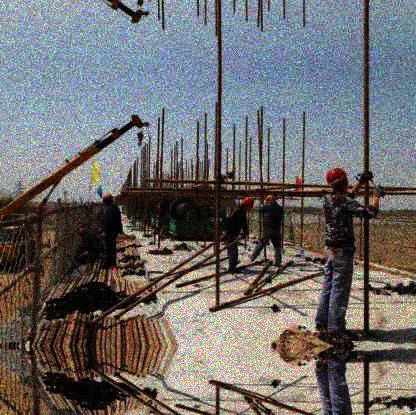helmet: (325, 167, 349, 194), (241, 195, 255, 212), (100, 193, 115, 206), (261, 193, 278, 203), (77, 227, 90, 238)
